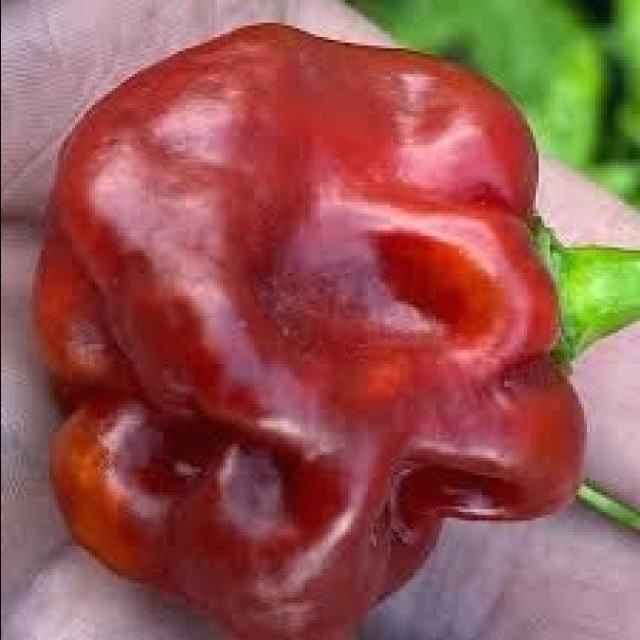bell_pepper: (32, 21, 587, 634)
